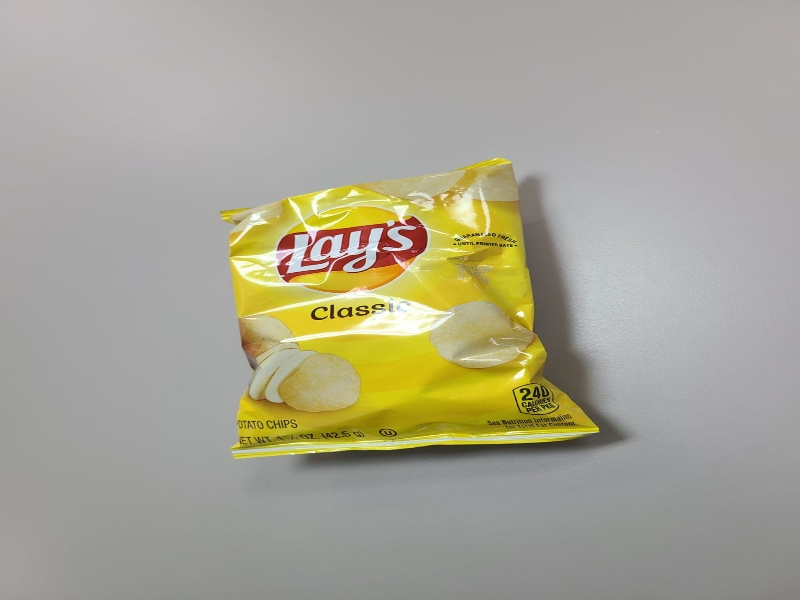lays: (217, 156, 616, 458)
